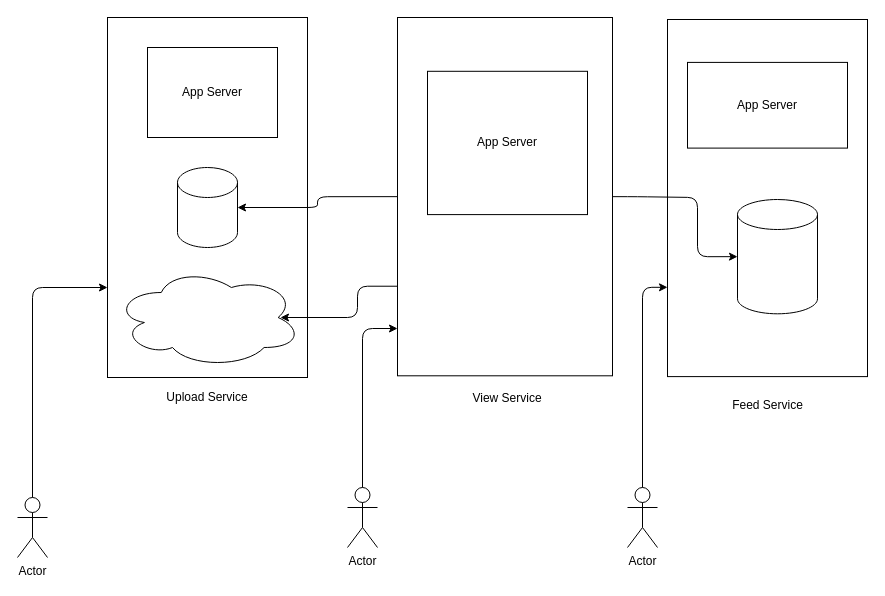
Image size: 885x596. Some labels were removed from this diagram. Each missing label, with the box of its shape:
Image Metadata: (176, 166, 238, 248)
Image Object Storage: (114, 266, 302, 368)
User Data: (736, 198, 818, 314)
